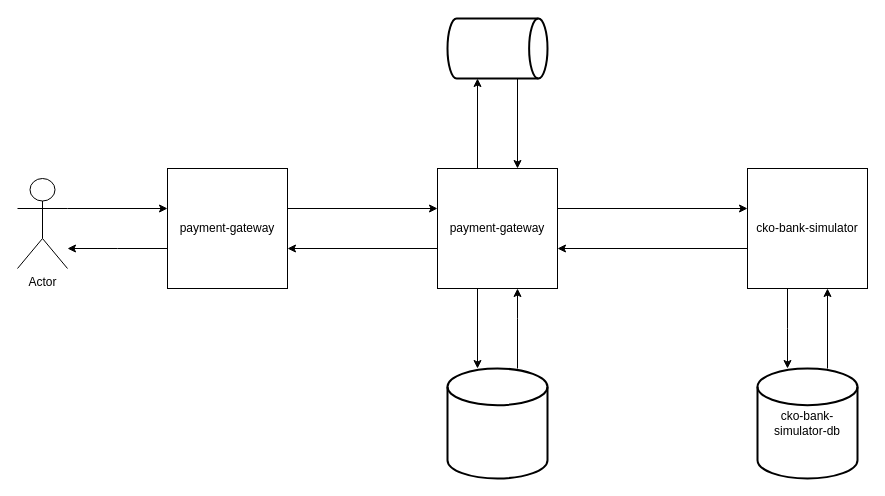
This 885x496 diagram has some shape labels left out. The shapes that lost their labels are listed below. From the top down, each one's box as (x1, y1, x2, y2) in pixels, then its label:
(446, 17, 548, 79): payment-gateway-amq
(446, 367, 548, 479): payment-gateway-db
